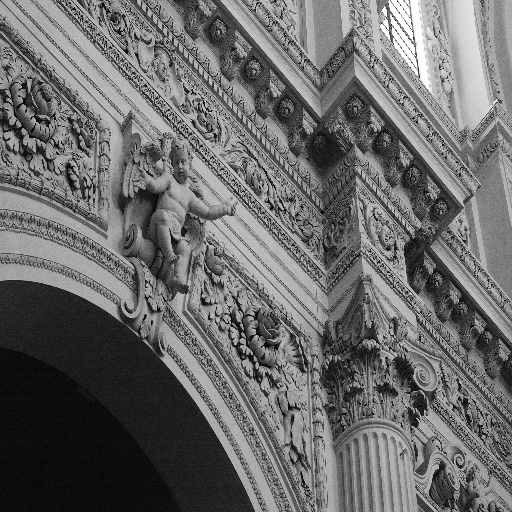hand: (132, 166, 149, 190), (228, 195, 237, 215), (486, 467, 493, 477), (473, 491, 479, 499)
